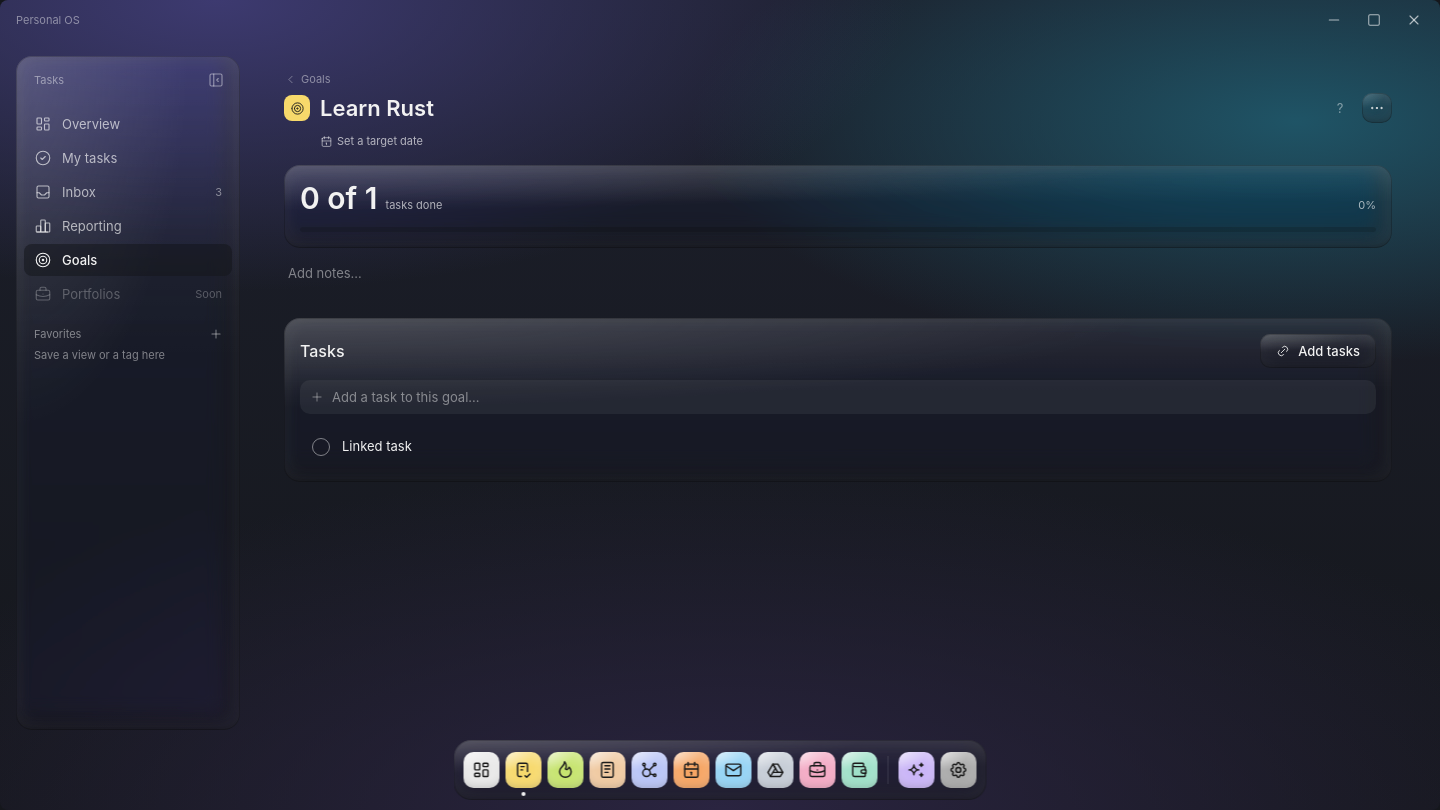
Test case: the Add tasks popover › focuses the search box and filters by title
Expected: the field named "Goal title" is shown, [316, 94, 1318, 122]
Click the button "Add tasks" at (1318, 351), box [1260, 334, 1376, 368]
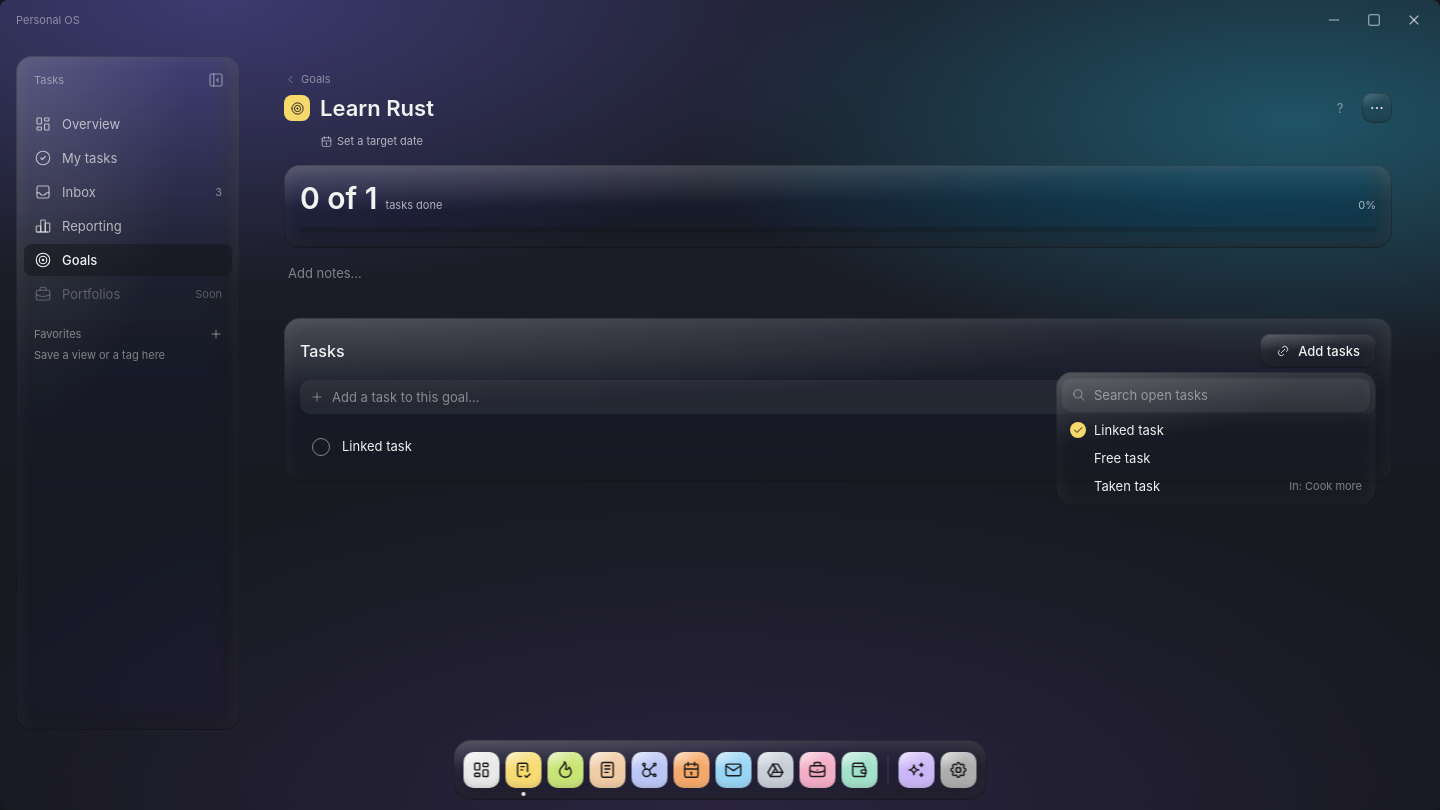
Now the field labelled "Search open tasks" is shown
Type "free" into the field labelled "Search open tasks" at (1227, 395), box [1094, 386, 1360, 404]
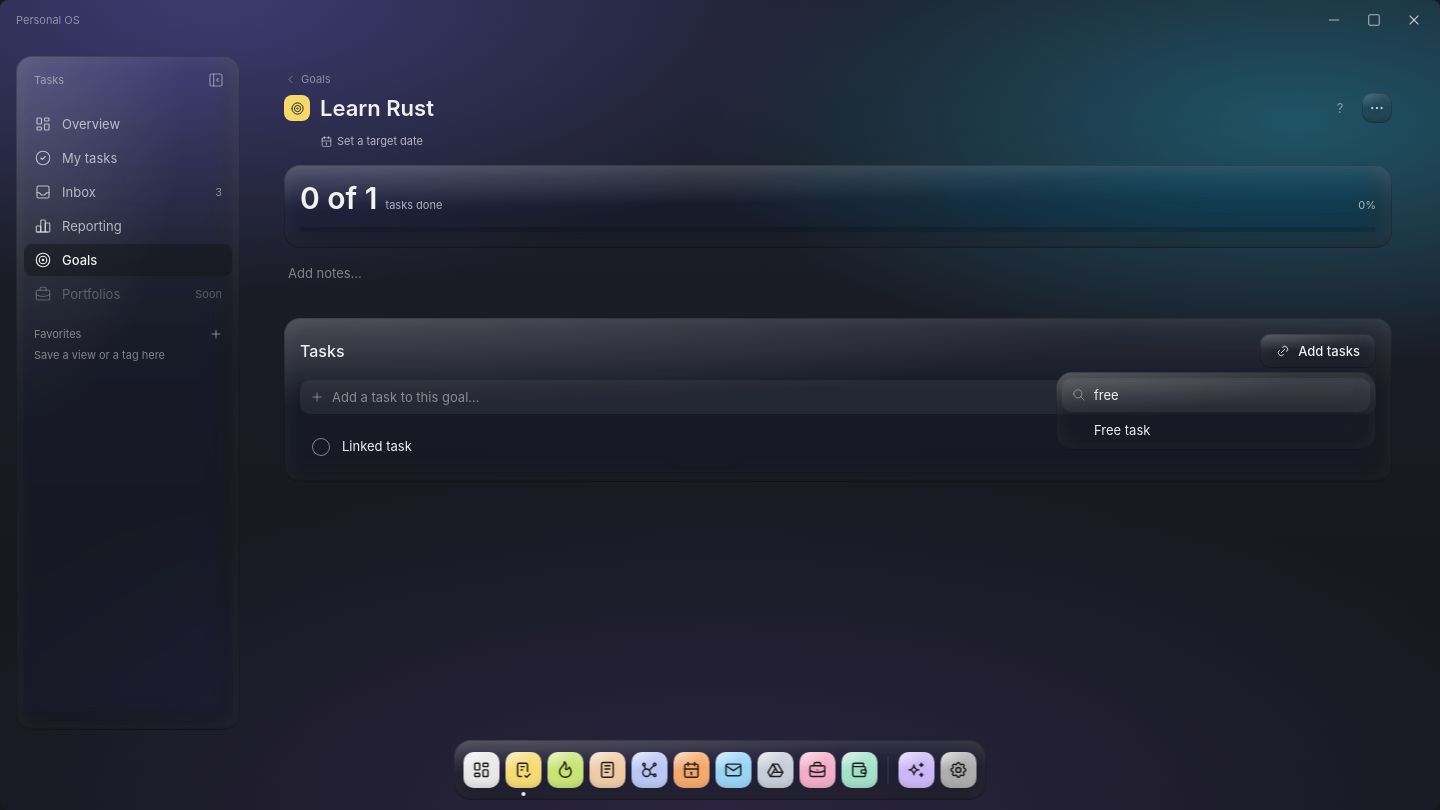
Now the number of options is 1, box [1062, 416, 1370, 444]
